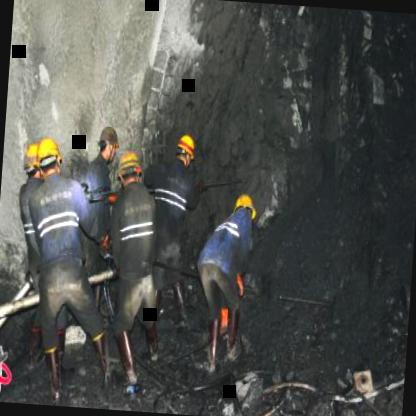helmet: (117, 147, 145, 196), (34, 136, 64, 178), (172, 131, 200, 176), (232, 192, 260, 228), (96, 124, 120, 164), (21, 139, 41, 185)
